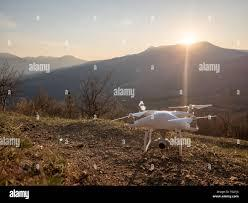drone: (111, 101, 217, 157)
